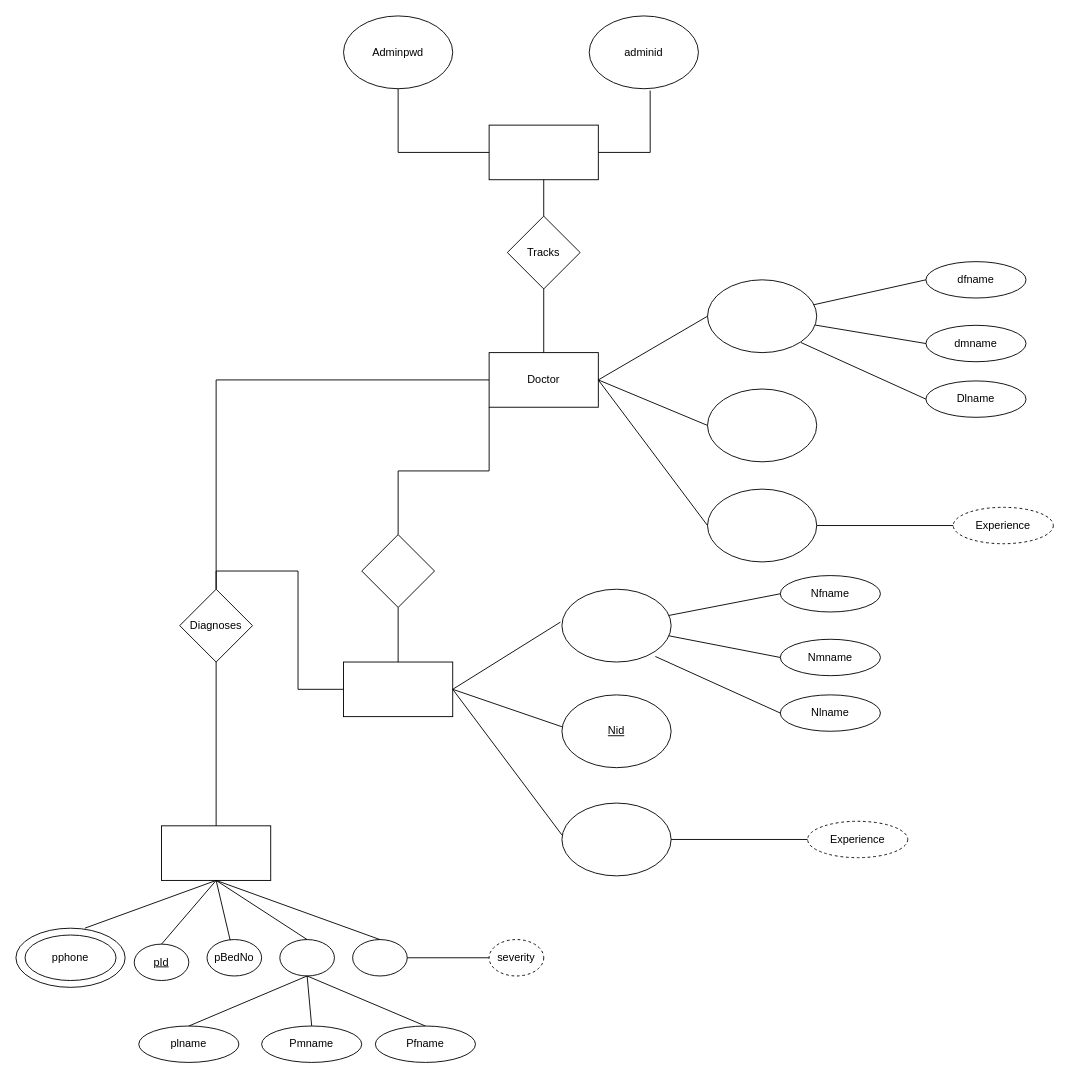
The diagram is 1069 pixels wide and 1078 high, and some of its shapes have lost their labels. The centre of each missing label's shape, as x and y in pixels:
"DDoj" goes at point (762, 525).
"Did" goes at point (762, 425).
"Dname" goes at point (762, 316).
"NDoj" goes at point (616, 839).
"Nname" goes at point (616, 625).
"Nurses" goes at point (398, 689).
"Owner/Admin" goes at point (543, 152).
"Patient" goes at point (216, 852).
"pDisease" goes at point (379, 957).
"pName" goes at point (306, 957).
"Trains" goes at point (398, 570).
